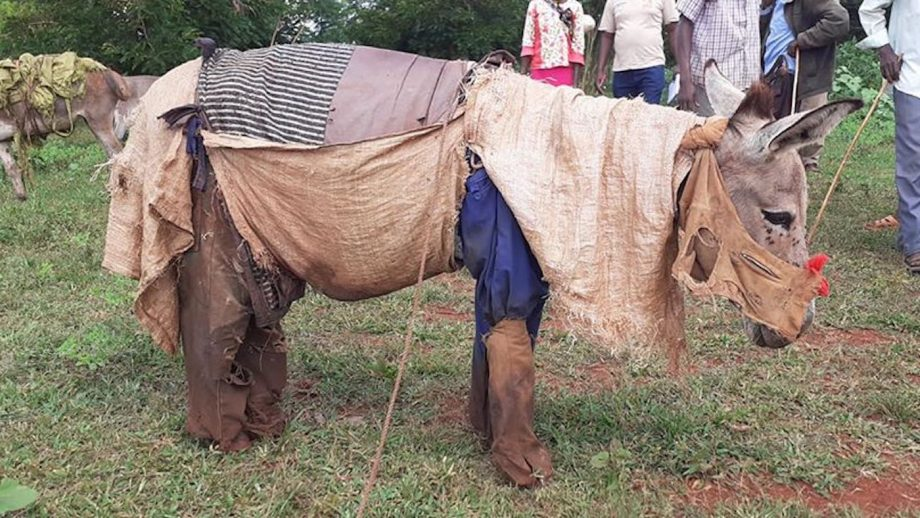Horse: (86, 39, 842, 482)
Person: (861, 11, 920, 259), (606, 11, 687, 113), (769, 11, 848, 111), (701, 17, 762, 99), (522, 12, 586, 89)
